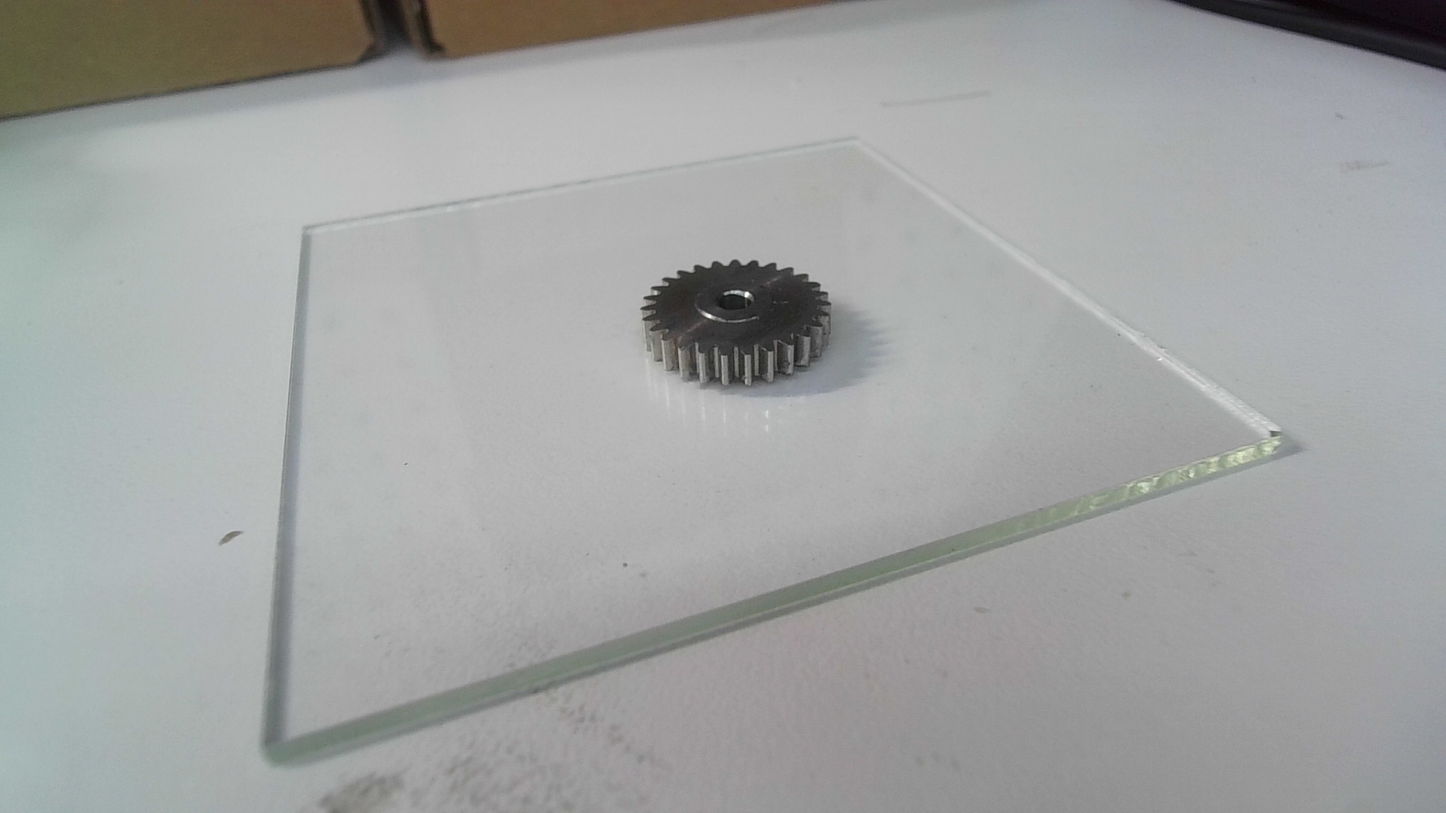gear: (636, 255, 839, 397)
